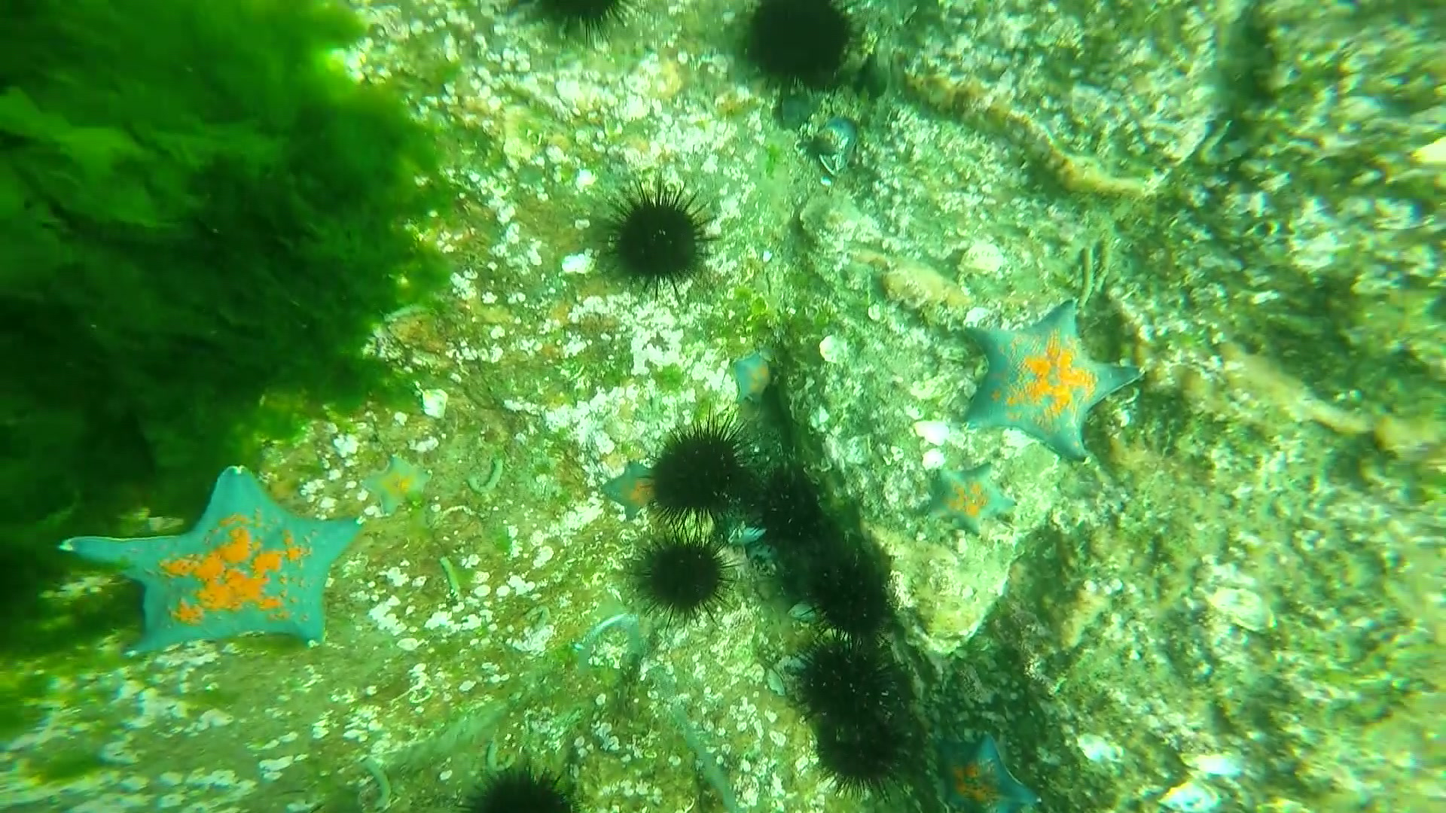holothurian: (47, 469, 352, 665), (959, 294, 1142, 464), (938, 727, 1042, 811), (929, 459, 1011, 529), (358, 451, 432, 516), (602, 459, 674, 515), (723, 347, 784, 410)
starfish: (594, 185, 714, 303), (642, 407, 752, 520), (742, 1, 866, 96), (624, 529, 746, 623), (809, 713, 913, 800), (783, 637, 903, 711), (798, 554, 892, 638), (752, 468, 836, 552), (1077, 559, 1078, 561)
